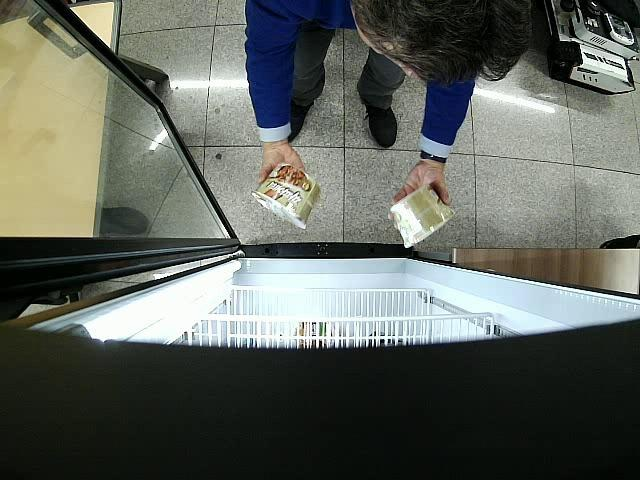03_chapagetti_L: (252, 165, 320, 230), (390, 186, 456, 248)
